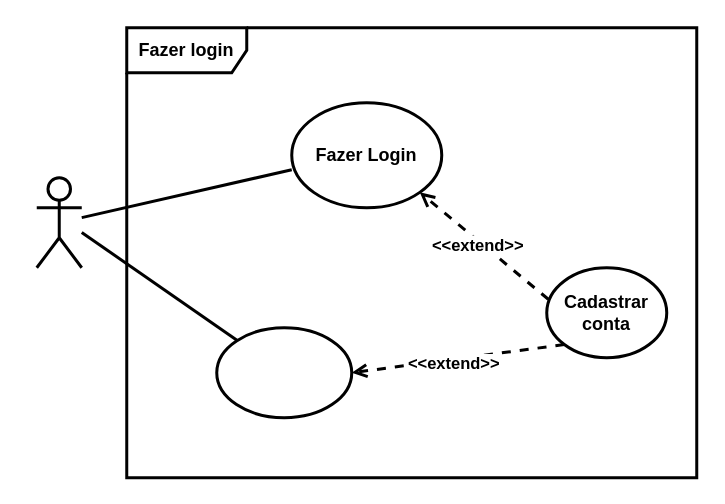
Some shapes in this 725 by 504 pixel diagram are drawn without their labels. The shapes that lost their labels are listed below. From the top down, each one's centre as x and y in pixels, then its label:
At [58,222]: "Usuário".
At [283,372]: "Logar google".
